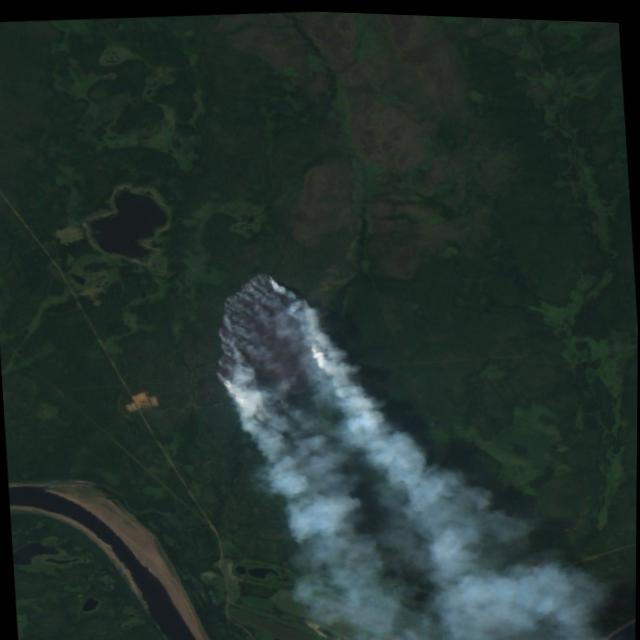fire: (200, 258, 339, 425)
